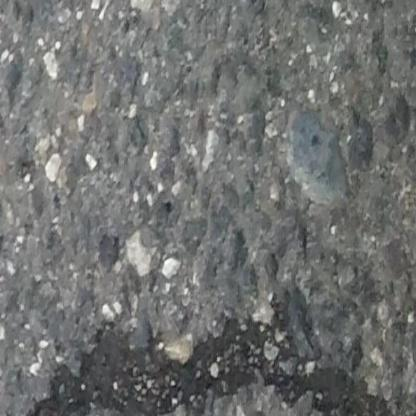Cracks: (0, 290, 414, 416)
